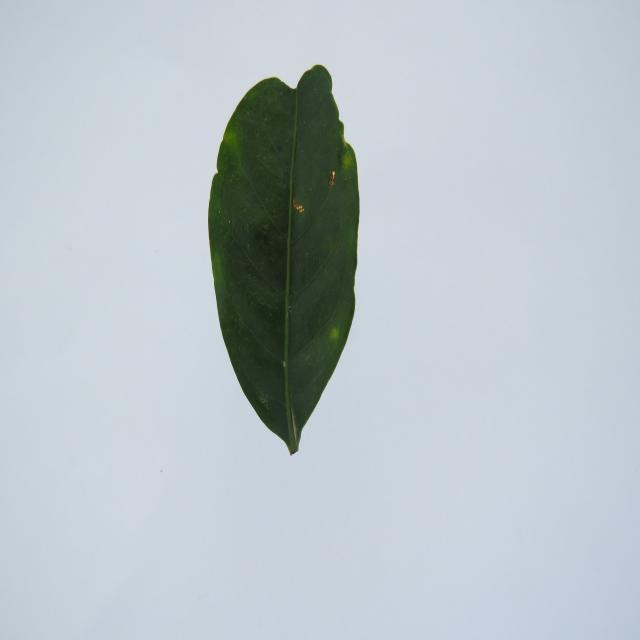DeficienciaNutricional-Boro: (209, 65, 359, 453)
